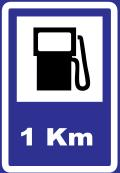Petrol Pump- Gas Station: (5, 9, 113, 159)
